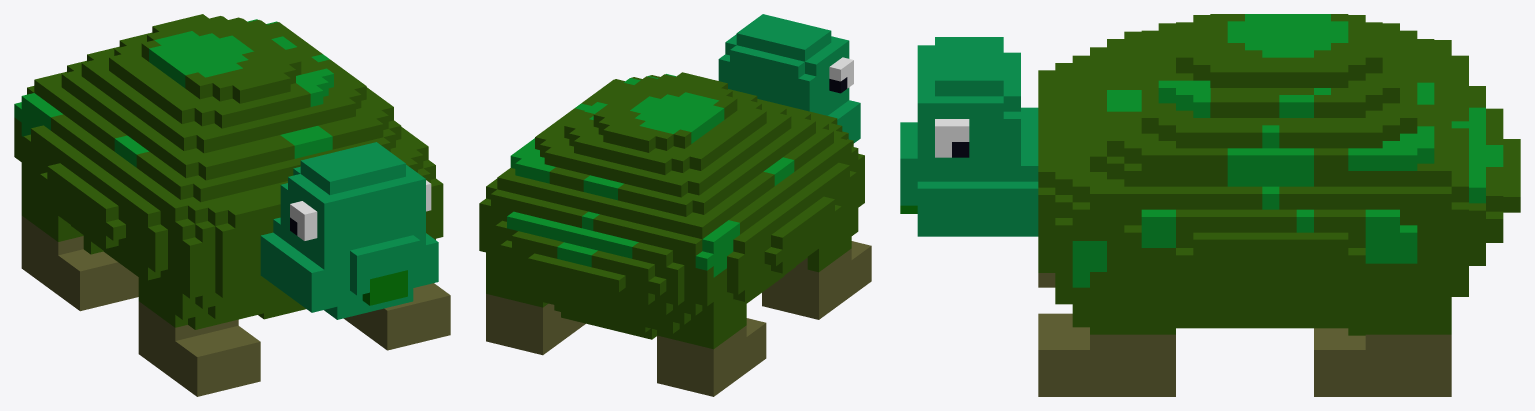
Rendered from Tortuga.obj.
The picture shows the model from 3 angles, left to right: view 1: azimuth 30°, elevation 25°; view 2: azimuth 150°, elevation 25°; view 3: azimuth 270°, elevation 25°; orthographic projection. The views are drawn at different scales.
Bounding box in the file's own units: 2.4 × 1.8 × 3.6.
